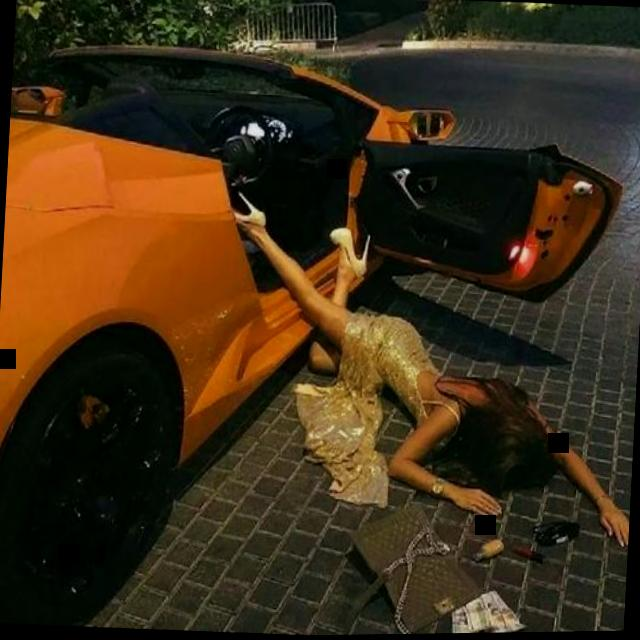Fall-Detected: (198, 161, 640, 560)
